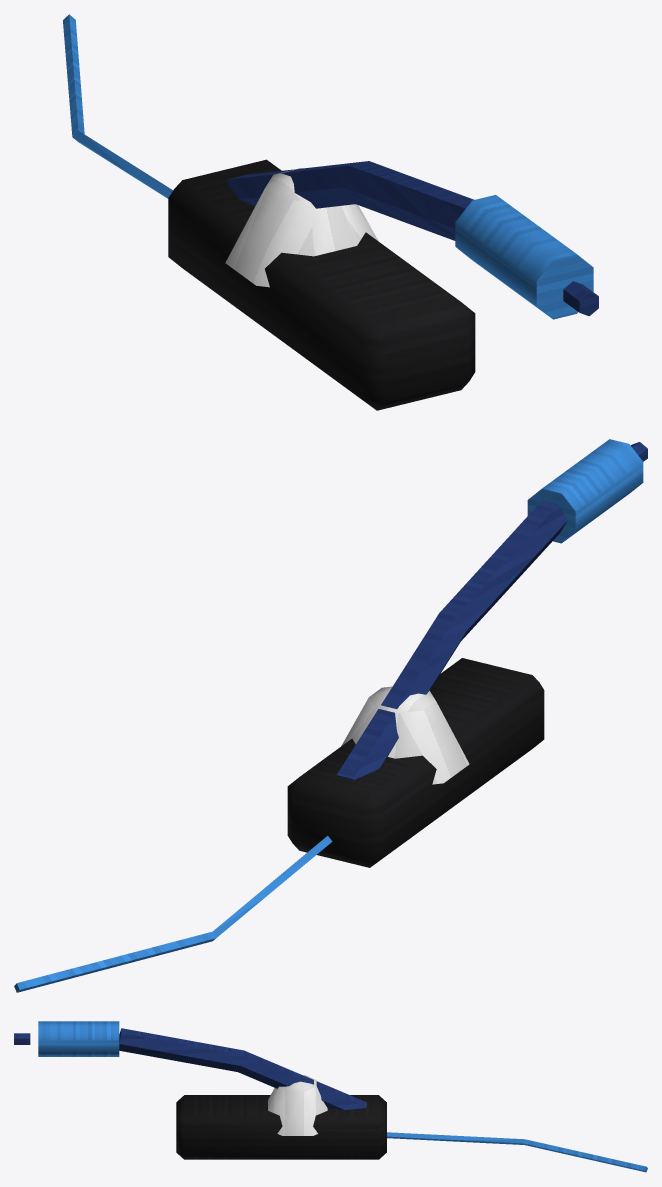
The model's file is freio_mao_n2.glb.
The picture shows the model from 3 angles, top to bottom: view 1: azimuth 30°, elevation 25°; view 2: azimuth 150°, elevation 25°; view 3: azimuth 270°, elevation 25°; orthographic projection. The views are drawn at different scales.
Visible parts, largest first — view 1: freio_mao_n2; view 2: freio_mao_n2; view 3: freio_mao_n2.
Boxes of the visible parts, x1,y1,x2,y2 form: freio_mao_n2: [63, 14, 598, 410]; freio_mao_n2: [14, 439, 647, 992]; freio_mao_n2: [14, 1021, 647, 1172].
Size of the model in its own units: 0.1297 by 0.1703 by 0.7819.
2 materials, 2 textured.
